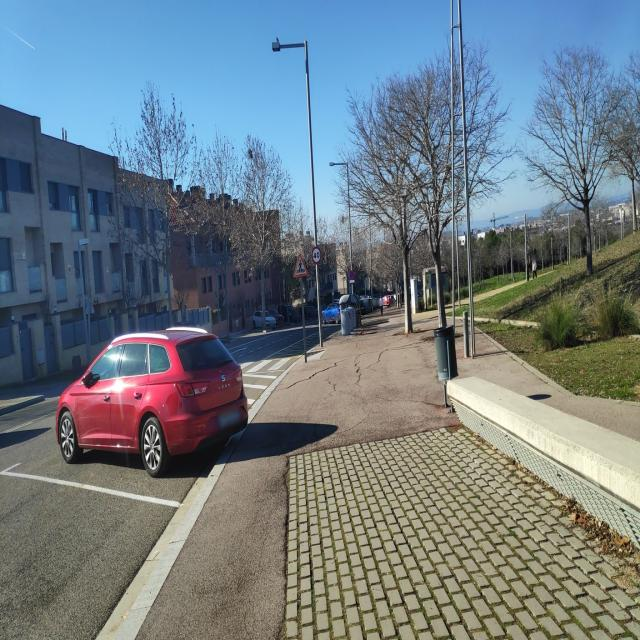car: (55, 325, 248, 478), (358, 290, 384, 314), (251, 308, 277, 330), (276, 302, 297, 324)
